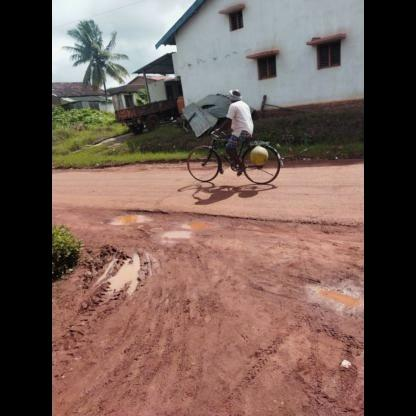Bicycle: (177, 128, 296, 199)
